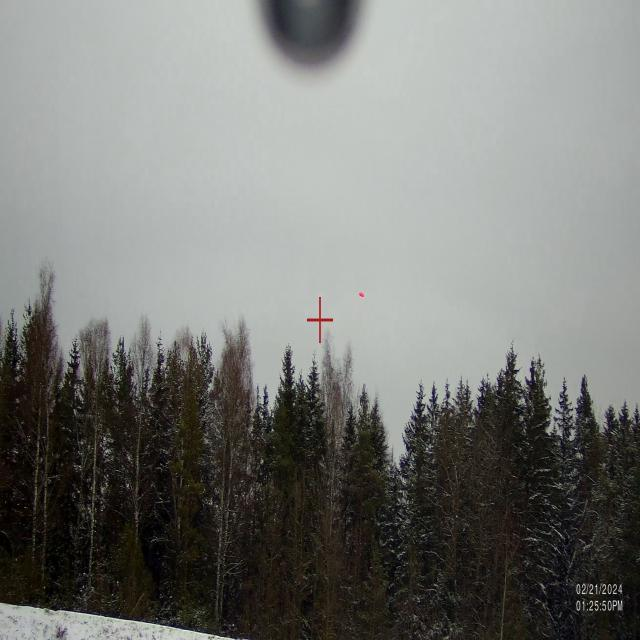entire: (354, 290, 367, 302)
